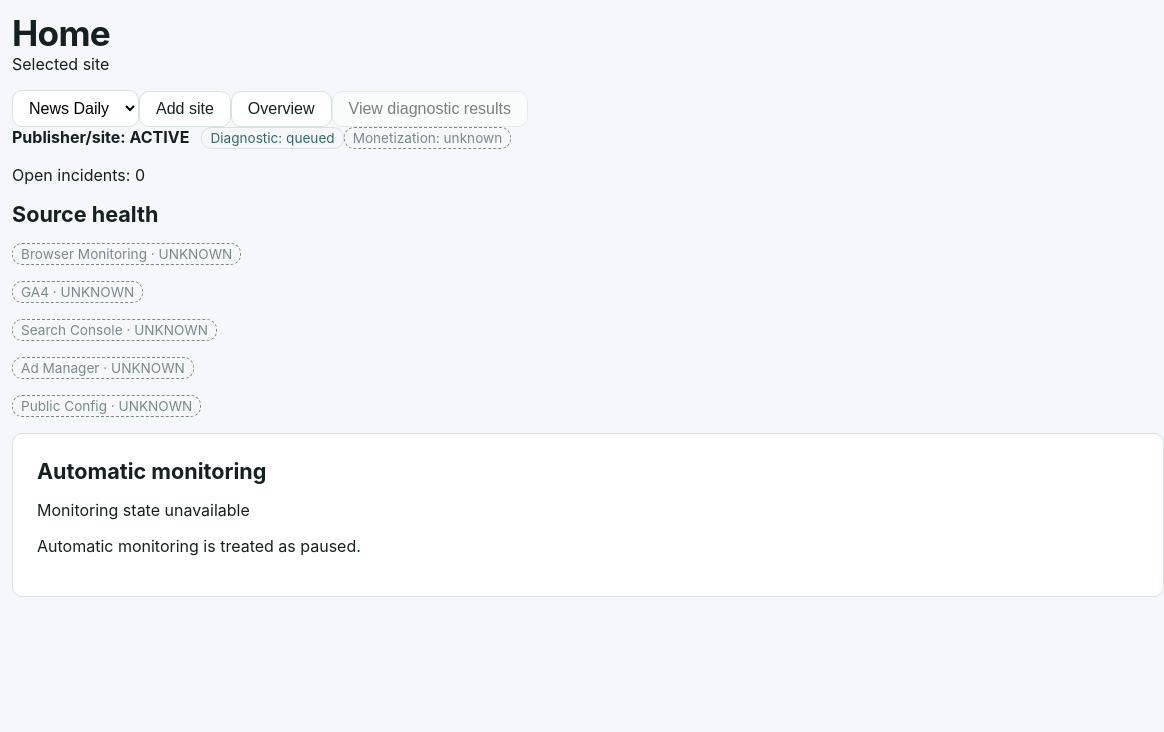
Test case: Diagnostic polling › D: stale-site race — late response for site A does not overwrite site B
Expected: the text "Diagnostic: queued" is shown, [201, 127, 344, 149]
// Switch to B (site change invalidates A's generation).
Select "Sports" in the dropdown labelled "Selected site" at (76, 108), box [12, 90, 139, 127]
Wait 100 ms
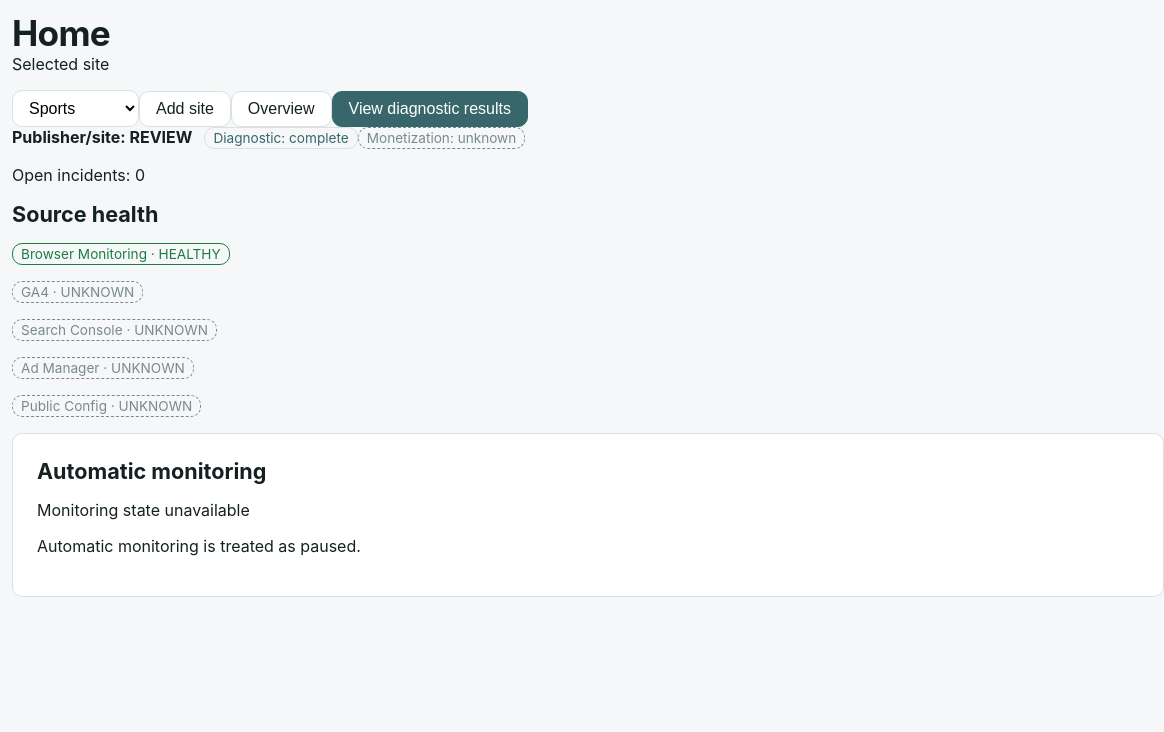
Expected: the text "Publisher/site: REVIEW" is shown, [12, 127, 192, 147]
Expected: the text "Browser Monitoring · HEALTHY" is shown, [12, 243, 230, 265]
